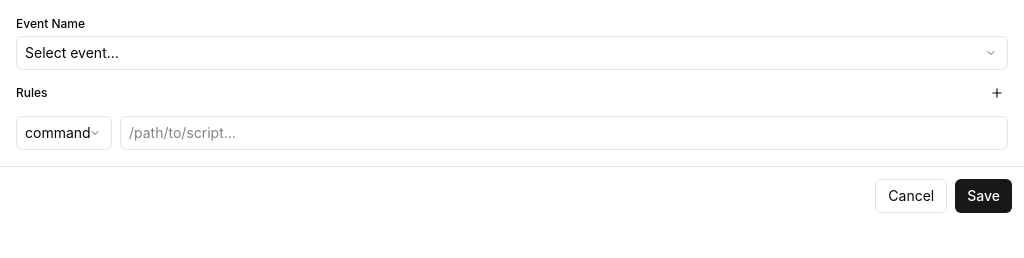
HookForm › validates event name on save
The width and height of the screenshot is (1024, 258).
Click the button "Save". click: (984, 196)
box: left=955, top=179, right=1012, bottom=213
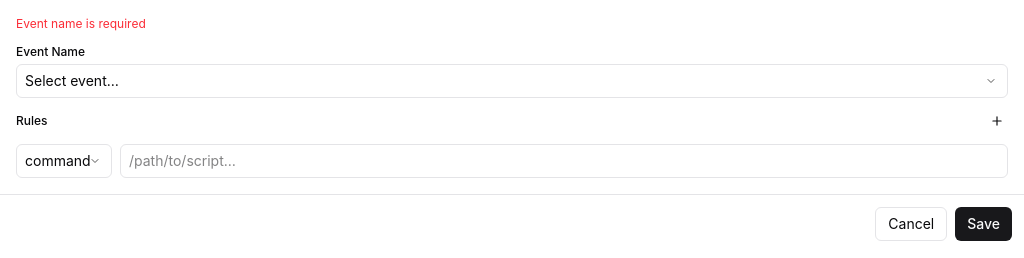
Expected: the message "Event name is required" is shown, left=16, top=16, right=146, bottom=31
